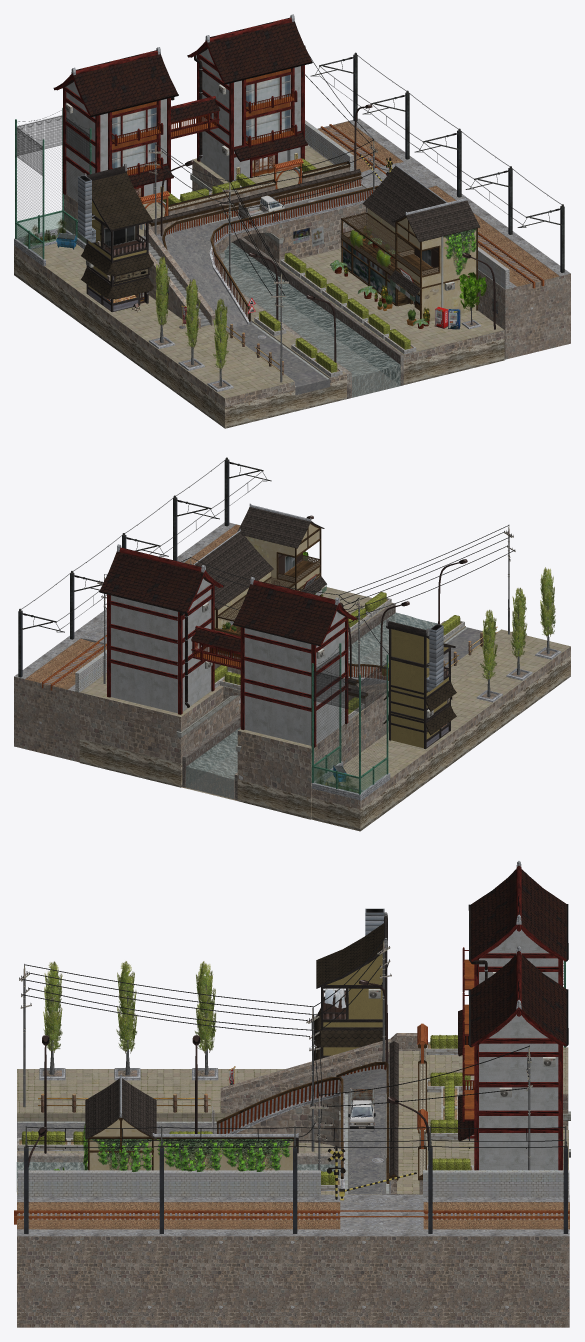
Rendered from city_scene_tokyo.glb.
3 views of the same model, one above another, from view 1: azimuth 30°, elevation 25°; view 2: azimuth 150°, elevation 25°; view 3: azimuth 270°, elevation 25° (orthographic). The views are drawn at different scales.
Parts seen in each view (by area): view 1: Object_73, Object_69, Object_42, Object_72, Object_39, Object_77, Object_74, Object_44, Object_10, Object_64, Object_57, Object_22 (+41 smaller); view 2: Object_44, Object_69, Object_72, Object_73, Object_39, Object_42, Object_57, Object_64, Object_77, Object_24, Object_10, Object_21 (+21 smaller); view 3: Object_64, Object_73, Object_67, Object_42, Object_44, Object_8, Object_65, Object_69, Object_39, Object_74, Object_83, Object_66 (+27 smaller).
Boxes of the visible parts, x1,y1,x2,y2 form: Object_73: [32, 145, 503, 398]; Object_69: [14, 160, 504, 407]; Object_42: [55, 21, 312, 186]; Object_72: [14, 164, 504, 428]; Object_39: [53, 17, 312, 202]; Object_77: [223, 242, 400, 397]; Object_74: [156, 185, 371, 395]; Object_44: [65, 49, 300, 202]; Object_10: [224, 237, 403, 398]; Object_64: [313, 121, 570, 359]; Object_57: [362, 166, 480, 296]; Object_22: [81, 172, 153, 299]; Object_44: [111, 578, 344, 745]; Object_69: [79, 646, 570, 809]; Object_72: [79, 626, 570, 831]; Object_73: [80, 586, 570, 794]; Object_39: [99, 547, 357, 747]; Object_42: [99, 551, 355, 690]; Object_57: [195, 507, 326, 609]; Object_64: [14, 524, 240, 762]; Object_77: [186, 612, 437, 799]; Object_24: [391, 629, 448, 748]; Object_10: [182, 603, 445, 799]; Object_21: [386, 621, 455, 749]; Object_64: [17, 1202, 569, 1327]; Object_73: [17, 1047, 568, 1194]; Object_67: [17, 1170, 569, 1197]; Object_42: [458, 869, 566, 1140]; Object_44: [479, 929, 558, 1170]; Object_8: [17, 1202, 569, 1229]; Object_65: [17, 1194, 569, 1236]; Object_69: [220, 1033, 568, 1193]; Object_39: [462, 865, 568, 1170]; Object_74: [17, 1062, 390, 1194]; Object_83: [43, 961, 216, 1075]; Object_66: [24, 1126, 567, 1233].
Size of the model in its own units: 21.38 by 12.23 by 22.48.
Materials: 78 (78 with a texture image).
